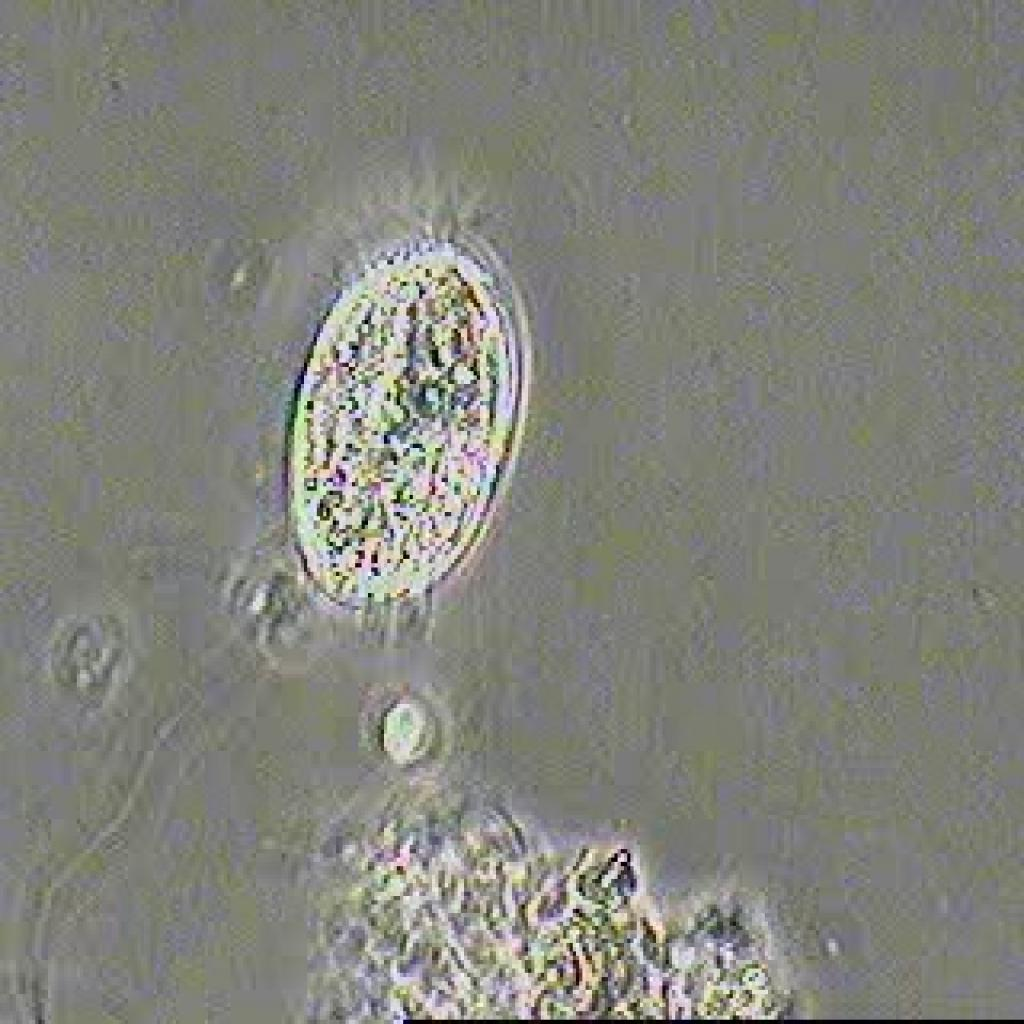Chilodonella: (232, 173, 542, 668)
